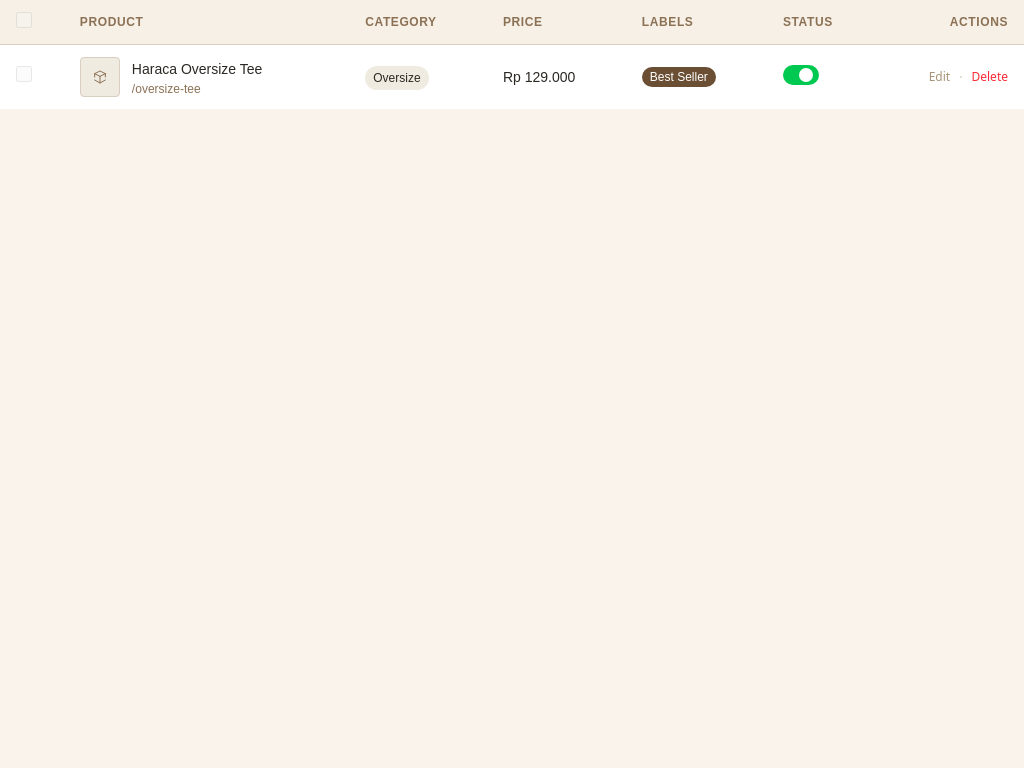
Test: ProductsTable › shows confirm dialog when delete clicked
Click the button "Delete" at coordinates (990, 77), box [972, 69, 1008, 85]
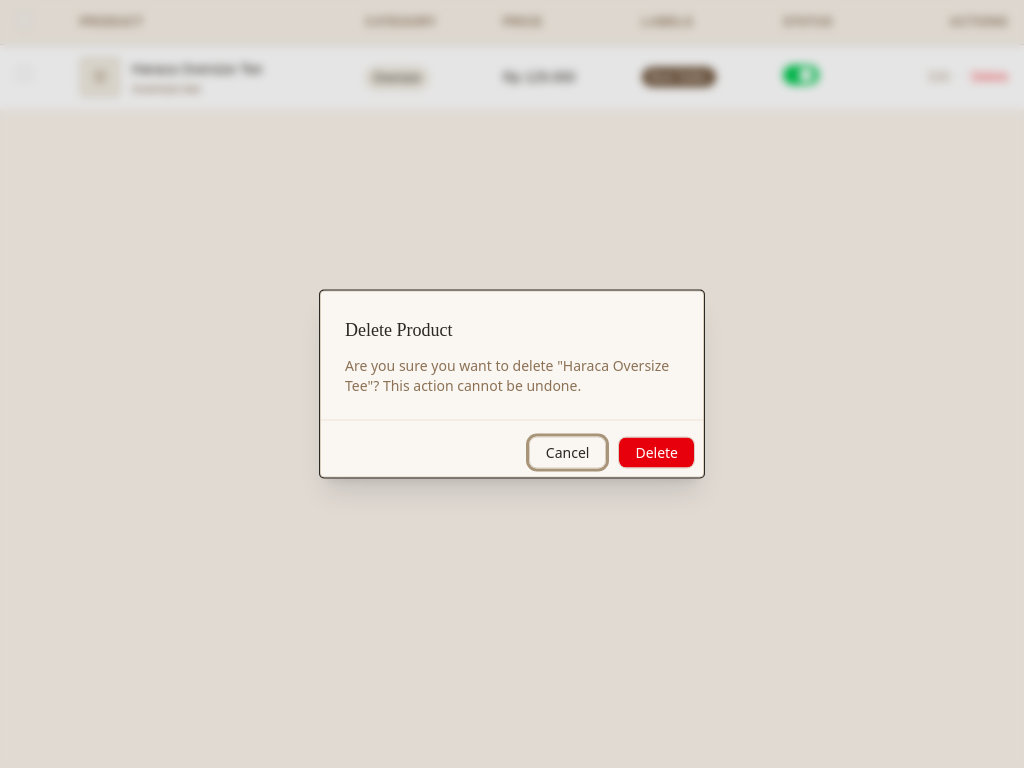
Check: the heading "Delete Product" is shown, box [345, 316, 452, 344]
